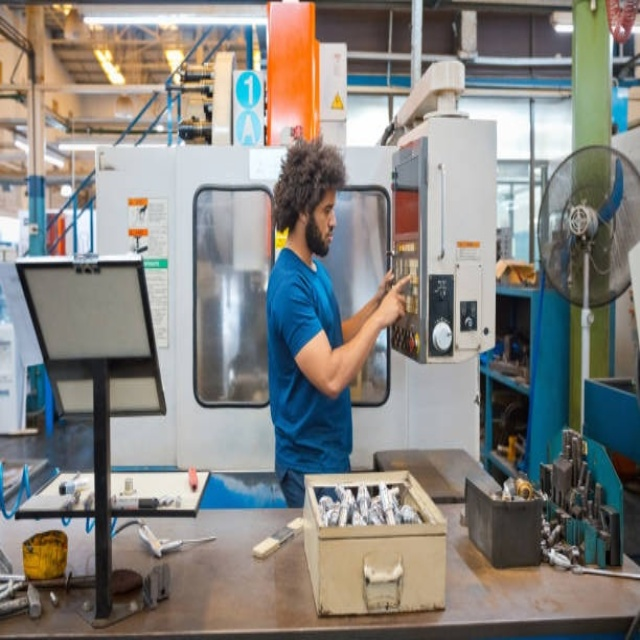Sin_gafas: (317, 201, 336, 216)
Sin_guantes: (373, 265, 416, 326)
Sin_mascara: (321, 227, 338, 256)
